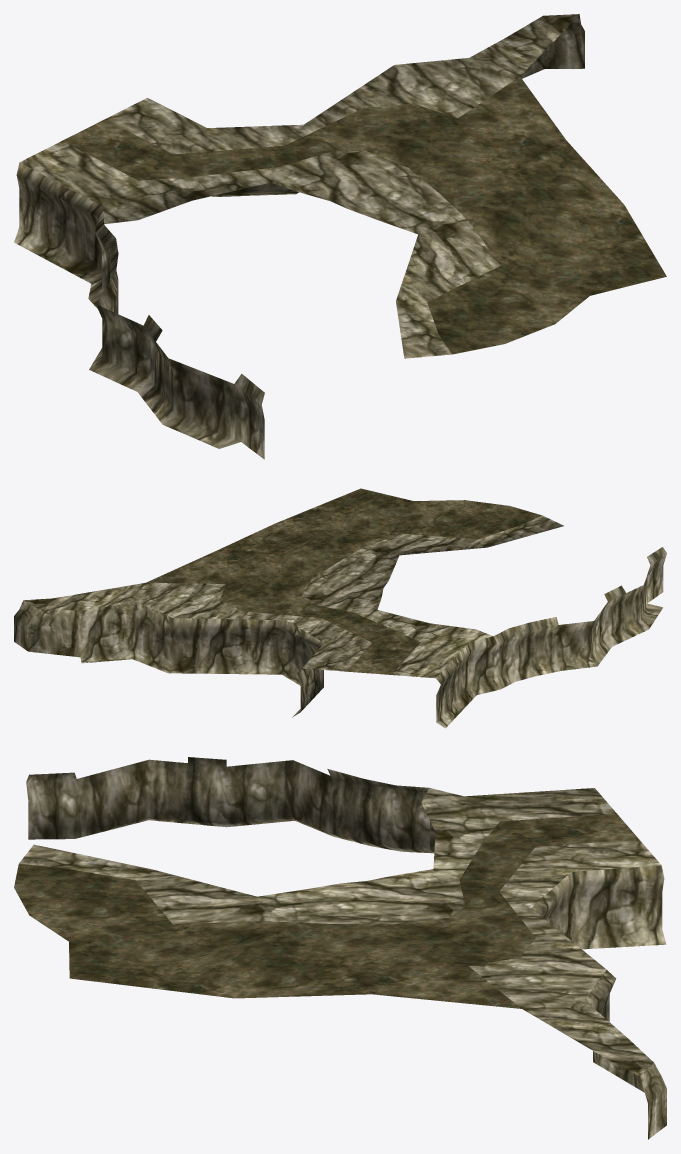
The model's file is CB_NEWPLAYSURFACE_CB_PLAYSURFACE77.fbx.
3 renders of one model, top to bottom at view 1: azimuth 30°, elevation 25°; view 2: azimuth 150°, elevation 25°; view 3: azimuth 270°, elevation 25°, orthographic. The views are drawn at different scales.
Parts seen in each view (by area): view 1: CB_NEWPLAYSURFACE_CB_PLAYSURFACE77; view 2: CB_NEWPLAYSURFACE_CB_PLAYSURFACE77; view 3: CB_NEWPLAYSURFACE_CB_PLAYSURFACE77.
Boxes of the visible parts, x1=… form: CB_NEWPLAYSURFACE_CB_PLAYSURFACE77: x1=14, y1=14, x2=666, y2=459; CB_NEWPLAYSURFACE_CB_PLAYSURFACE77: x1=14, y1=488, x2=666, y2=728; CB_NEWPLAYSURFACE_CB_PLAYSURFACE77: x1=14, y1=757, x2=666, y2=1139.
Bounding box in the file's own units: 336374 × 35484 × 287139.
3 materials, 3 textured.
